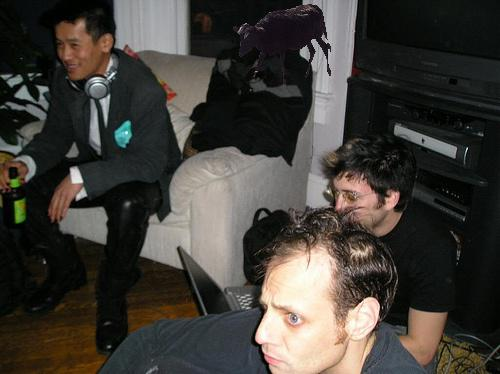tampered: (234, 5, 331, 84)
